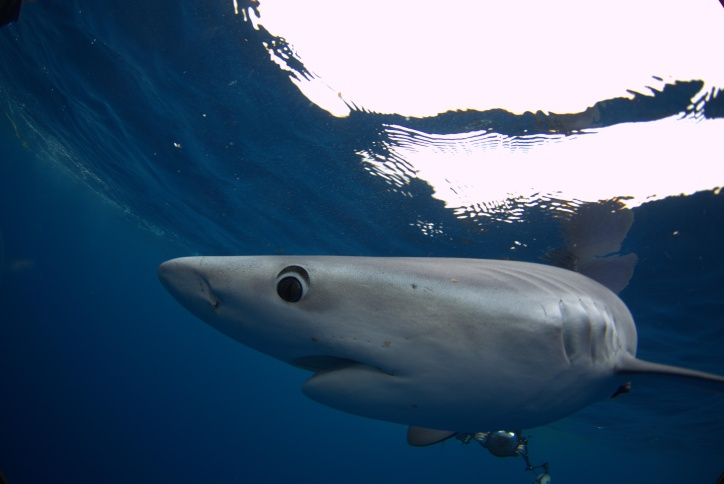Azul: (293, 138, 672, 384)
